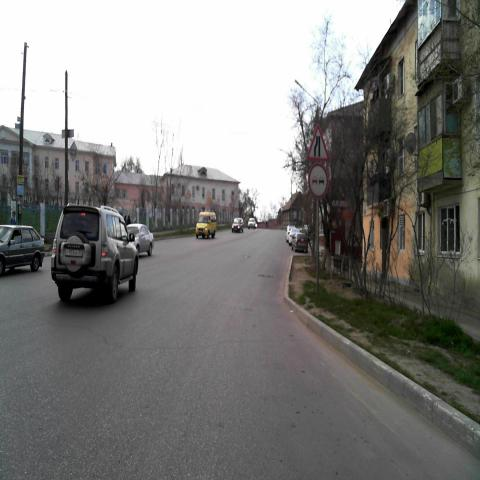1_20_3: (306, 123, 328, 161)
3_20: (308, 163, 329, 197)
